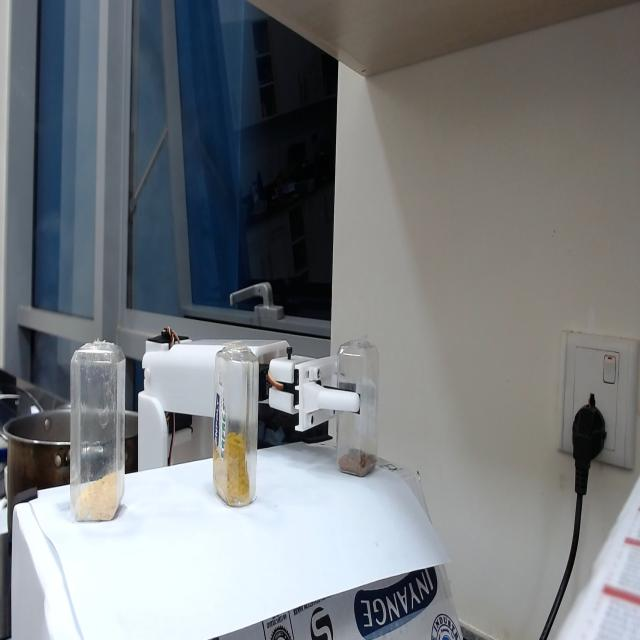cooking_pot: (5, 409, 70, 484)
curry_powder: (217, 435, 250, 509)
garlic_powder: (75, 484, 115, 522)
maggie_open: (338, 448, 378, 478)
